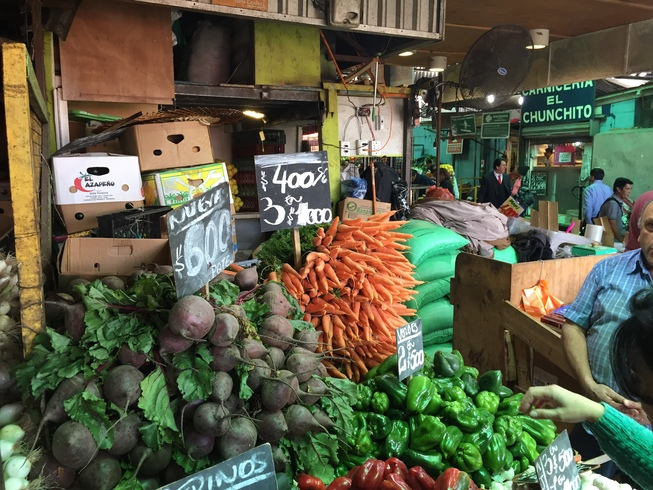precio: (167, 186, 237, 289), (152, 440, 285, 490), (253, 148, 333, 230), (392, 320, 427, 373)
